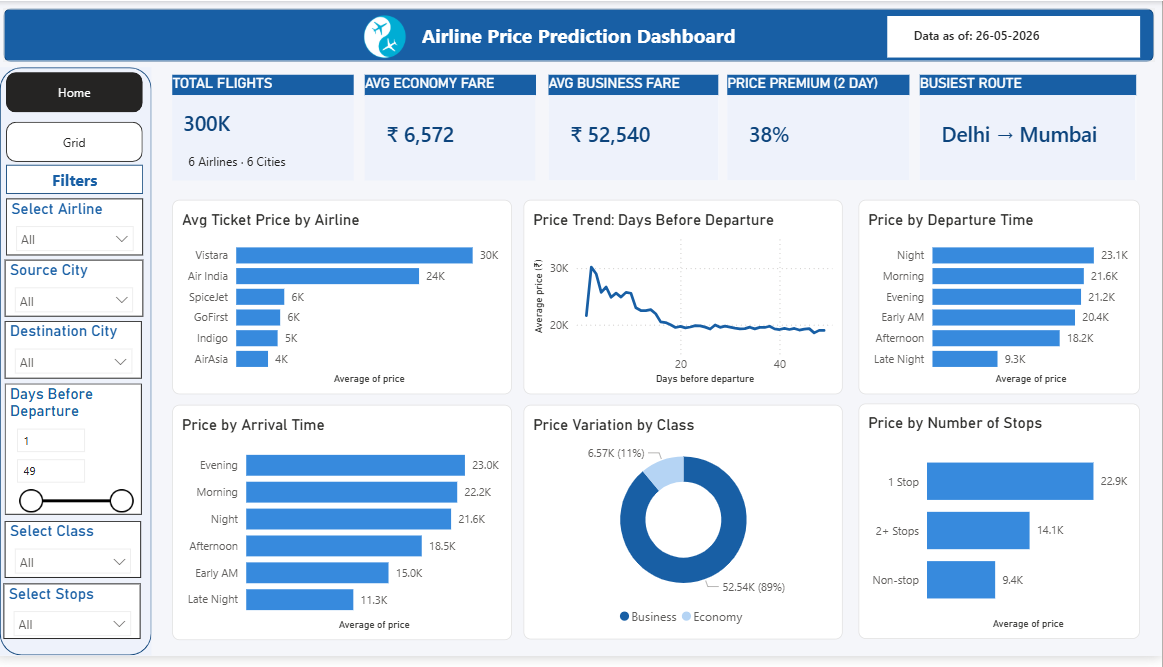

What the dashboard file says about the page in this screenshot:
{"tool":"powerbi","page":{"name":"Home","canvas":[1280,720],"ordinal":0},"visuals":[{"type":"shape","box":[3.7,72.1,166.7,645.6],"z":0},{"type":"clusteredBarChart","title":"Avg Ticket Price by Airline","fields":{"Category":["Clean_Dataset.airline"],"Y":["Avg(Clean_Dataset.price)"]},"box":[192.8,217.7,373.2,214],"z":1000},{"type":"lineChart","title":"Price Trend: Days Before Departure","fields":{"Category":["Clean_Dataset.days_left"],"Y":["Avg(Clean_Dataset.price)"]},"box":[579.7,217.7,350.8,214],"z":2000},{"type":"clusteredBarChart","title":"Price by Departure Time","fields":{"Category":["Clean_Dataset.departure_time"],"Y":["Avg(Clean_Dataset.price)"]},"box":[946.7,217.7,308.5,214],"z":3000},{"type":"clusteredBarChart","title":"Price by Arrival Time","fields":{"Category":["Clean_Dataset.arrival_time"],"Y":["Avg(Clean_Dataset.price)"]},"box":[192.8,442.8,373.2,258.7],"z":4000},{"type":"donutChart","title":"Price Variation by Class","fields":{"Y":["Avg(Clean_Dataset.price)"],"Series":["Clean_Dataset.class"],"Category":["Clean_Dataset.class"]},"box":[579.7,442.8,350.8,257.5],"z":5000},{"type":"slicer","title":"Select Airline","fields":{"Values":["Clean_Dataset.airline"]},"box":[11.2,216.4,150.5,62.2],"z":6000},{"type":"slicer","title":"Select Class","fields":{"Values":["Clean_Dataset.class"]},"box":[10,571,149.3,62.2],"z":7000},{"type":"slicer","title":"Source City","fields":{"Values":["Clean_Dataset.source_city"]},"box":[10,283.6,151.8,62.2],"z":8000},{"type":"slicer","title":"Destination City","fields":{"Values":["Clean_Dataset.destination_city"]},"box":[10,350.8,150.5,63.4],"z":9000},{"type":"slicer","title":"Days Before Departure","fields":{"Values":["Clean_Dataset.days_left"]},"box":[10,420.5,150.5,144.3],"z":10000},{"type":"slicer","title":"Select Stops","fields":{"Values":["Clean_Dataset.stops"]},"box":[8.7,639.4,150.5,61],"z":11000},{"type":"clusteredBarChart","title":"Price by Number of Stops","fields":{"Category":["Clean_Dataset.stops"],"Y":["Avg(Clean_Dataset.price)"]},"box":[946.7,441.6,308.5,258.7],"z":12000},{"type":"shape","box":[11.2,180.4,150.5,32],"z":13000},{"type":"shape","box":[8.6,8.6,1262.9,58.6],"z":14000},{"type":"cardVisual","title":"TOTAL FLIGHTS","fields":{"Data":["All Measures.Total Flights"]},"box":[192.8,80.9,199,115.7],"z":15000},{"type":"textbox","box":[201.5,161.7,125.6,29.9],"z":16000},{"type":"pageNavigator","box":[11.2,78.4,150.5,98.3],"z":17000},{"type":"cardVisual","title":"AVG ECONOMY FARE","fields":{"Data":["All Measures.Avg Economy Fare"]},"box":[404.3,80.9,187.8,115.7],"z":18000},{"type":"cardVisual","title":"AVG BUSINESS FARE","fields":{"Data":["All Measures.Avg Business Fare"]},"box":[607.1,80.9,186.6,115.7],"z":19000},{"type":"cardVisual","title":"PRICE PREMIUM (2 DAY)","fields":{"Data":["All Measures.Last Minute Premium"]},"box":[802.4,80.9,200.3,115.7],"z":20000},{"type":"cardVisual","title":"BUSIEST ROUTE","fields":{"Data":["All Measures.Busiest Route"]},"box":[1013.8,80.9,237.6,115.7],"z":21000},{"type":"cardVisual","fields":{"Data":["All Measures.Last Refresh"]},"box":[977.9,16,277.3,45.4],"z":22000},{"type":"image","box":[391.4,14.7,71.2,47.9],"z":23000}]}

Visuals, with their boxes in screenshot pixels (x1, y1, x2, y2), scaled from the page's 1280x720 canvas onto the 1163x667 screenshot:
shape: x1=3 y1=67 x2=155 y2=665
"Avg Ticket Price by Airline" clusteredBarChart: x1=175 y1=202 x2=514 y2=400
"Price Trend: Days Before Departure" lineChart: x1=527 y1=202 x2=845 y2=400
"Price by Departure Time" clusteredBarChart: x1=860 y1=202 x2=1140 y2=400
"Price by Arrival Time" clusteredBarChart: x1=175 y1=410 x2=514 y2=650
"Price Variation by Class" donutChart: x1=527 y1=410 x2=845 y2=649
"Select Airline" slicer: x1=10 y1=200 x2=147 y2=258
"Select Class" slicer: x1=9 y1=529 x2=145 y2=587
"Source City" slicer: x1=9 y1=263 x2=147 y2=320
"Destination City" slicer: x1=9 y1=325 x2=146 y2=384
"Days Before Departure" slicer: x1=9 y1=390 x2=146 y2=523
"Select Stops" slicer: x1=8 y1=592 x2=145 y2=649
"Price by Number of Stops" clusteredBarChart: x1=860 y1=409 x2=1140 y2=649
shape: x1=10 y1=167 x2=147 y2=197
shape: x1=8 y1=8 x2=1155 y2=62
"TOTAL FLIGHTS" cardVisual: x1=175 y1=75 x2=356 y2=182
textbox: x1=183 y1=150 x2=297 y2=177
pageNavigator: x1=10 y1=73 x2=147 y2=164
"AVG ECONOMY FARE" cardVisual: x1=367 y1=75 x2=538 y2=182
"AVG BUSINESS FARE" cardVisual: x1=552 y1=75 x2=721 y2=182
"PRICE PREMIUM (2 DAY)" cardVisual: x1=729 y1=75 x2=911 y2=182
"BUSIEST ROUTE" cardVisual: x1=921 y1=75 x2=1137 y2=182
cardVisual - All Measures.Last Refresh: x1=889 y1=15 x2=1140 y2=57
image: x1=356 y1=14 x2=420 y2=58
